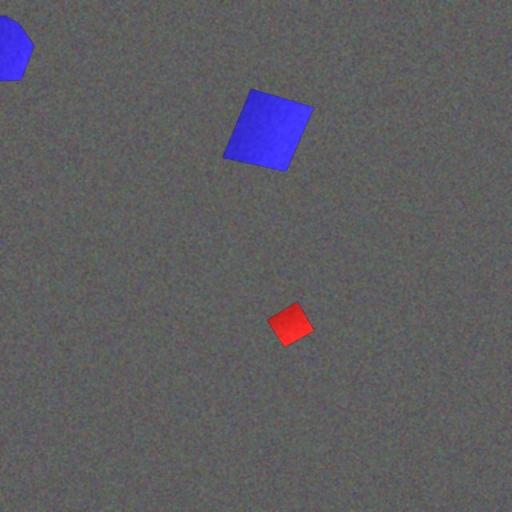BLUE_SQUARE: (222, 87, 314, 173)
RED_SQUARE: (266, 302, 316, 348)
